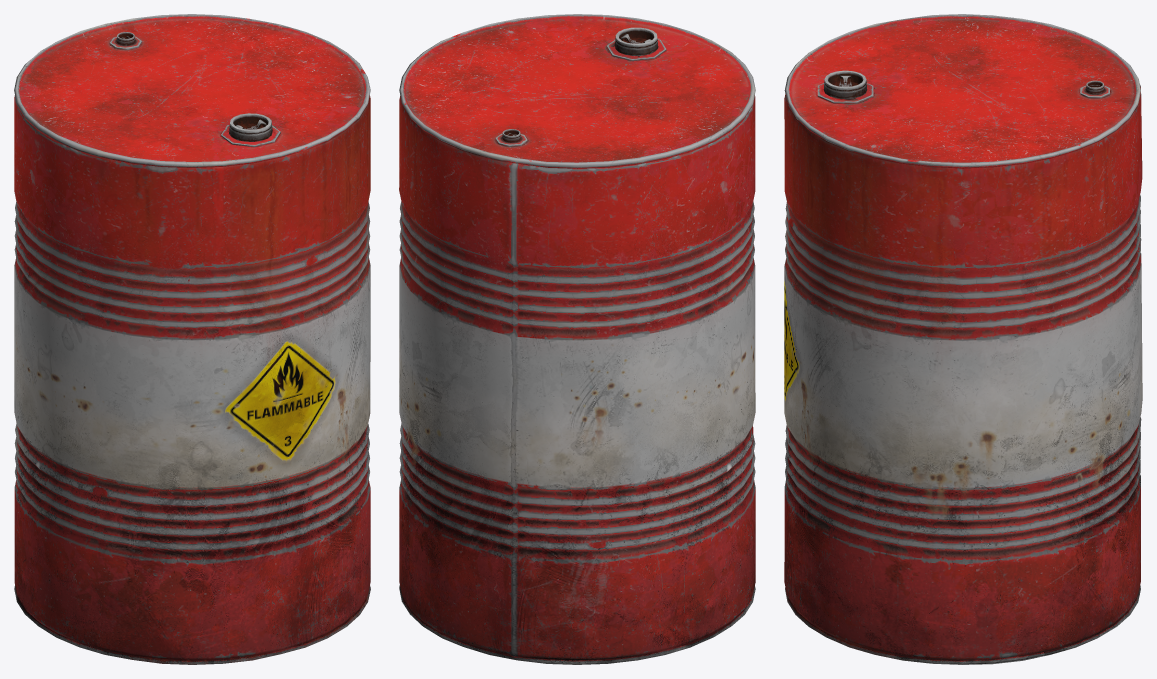
Rendered from fuel_barrels.fbx.
3 views of the same model, side by side, from view 1: azimuth 30°, elevation 25°; view 2: azimuth 150°, elevation 25°; view 3: azimuth 270°, elevation 25° (orthographic).
Visible parts, largest first — view 1: Fuel Barrels; view 2: Fuel Barrels; view 3: Fuel Barrels.
Part boxes in pixels (x1=…): Fuel Barrels: x1=14, y1=14, x2=370, y2=664; Fuel Barrels: x1=399, y1=14, x2=755, y2=664; Fuel Barrels: x1=784, y1=14, x2=1142, y2=664.
Size of the model in its own units: 59.02 by 93.4 by 59.29.
